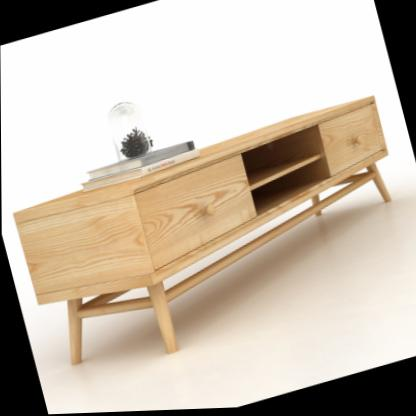TV stand: (7, 85, 416, 391)
